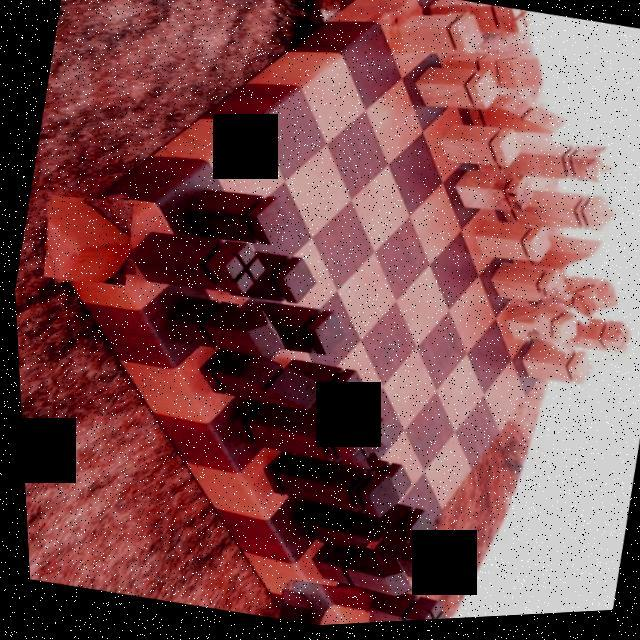chess-table-corners: (32, 182, 144, 294), (268, 576, 368, 630), (522, 290, 592, 366), (382, 0, 472, 31)
